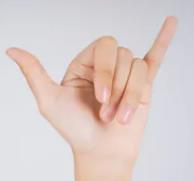clockwise: (1, 13, 180, 154)
